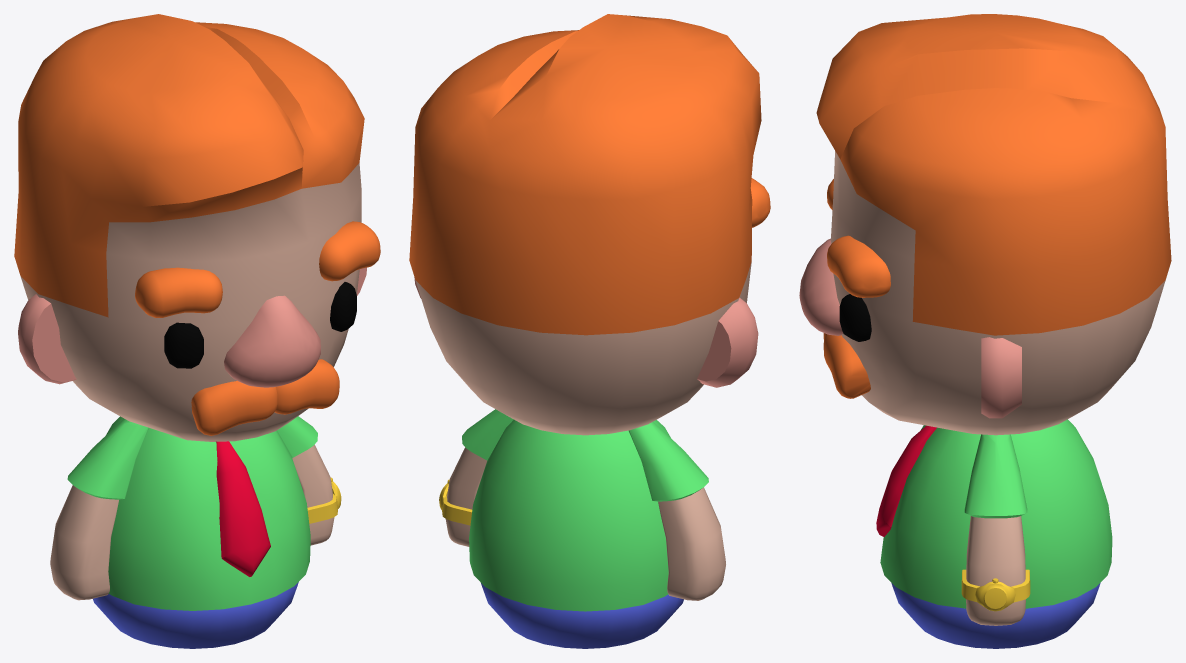
File: Guest_1.fbx
The picture shows the model from 3 angles, left to right: view 1: azimuth 30°, elevation 25°; view 2: azimuth 150°, elevation 25°; view 3: azimuth 270°, elevation 25°; orthographic projection.
Visible parts, largest first — view 1: PrototypePete_head, PrototypePete_body, PrototypePete_armRight, PrototypePete_head.001, PrototypePete_body.001, PrototypePete_armLeft, PrototypePete_armLeft.001; view 2: PrototypePete_head, PrototypePete_body, PrototypePete_armRight, PrototypePete_armLeft, PrototypePete_armLeft.001; view 3: PrototypePete_head, PrototypePete_body, PrototypePete_armLeft, PrototypePete_head.001, PrototypePete_body.001, PrototypePete_armLeft.001.
Part boxes in pixels (<box>): PrototypePete_head: <box>14,14,380,441</box>; PrototypePete_body: <box>93,416,310,648</box>; PrototypePete_armRight: <box>50,418,148,600</box>; PrototypePete_head.001: <box>191,359,339,435</box>; PrototypePete_body.001: <box>216,441,270,576</box>; PrototypePete_armLeft: <box>276,416,334,545</box>; PrototypePete_armLeft.001: <box>307,477,341,523</box>; PrototypePete_head: <box>409,14,770,435</box>; PrototypePete_body: <box>469,419,683,648</box>; PrototypePete_armRight: <box>629,421,725,600</box>; PrototypePete_armLeft: <box>445,409,513,546</box>; PrototypePete_armLeft.001: <box>439,479,472,525</box>; PrototypePete_head: <box>799,14,1171,435</box>; PrototypePete_body: <box>880,419,1112,648</box>; PrototypePete_armLeft: <box>964,434,1027,625</box>; PrototypePete_head.001: <box>823,333,870,398</box>; PrototypePete_body.001: <box>876,425,936,536</box>; PrototypePete_armLeft.001: <box>961,569,1030,611</box>.
Bounding box in the file's own units: 118 × 190 × 112.
